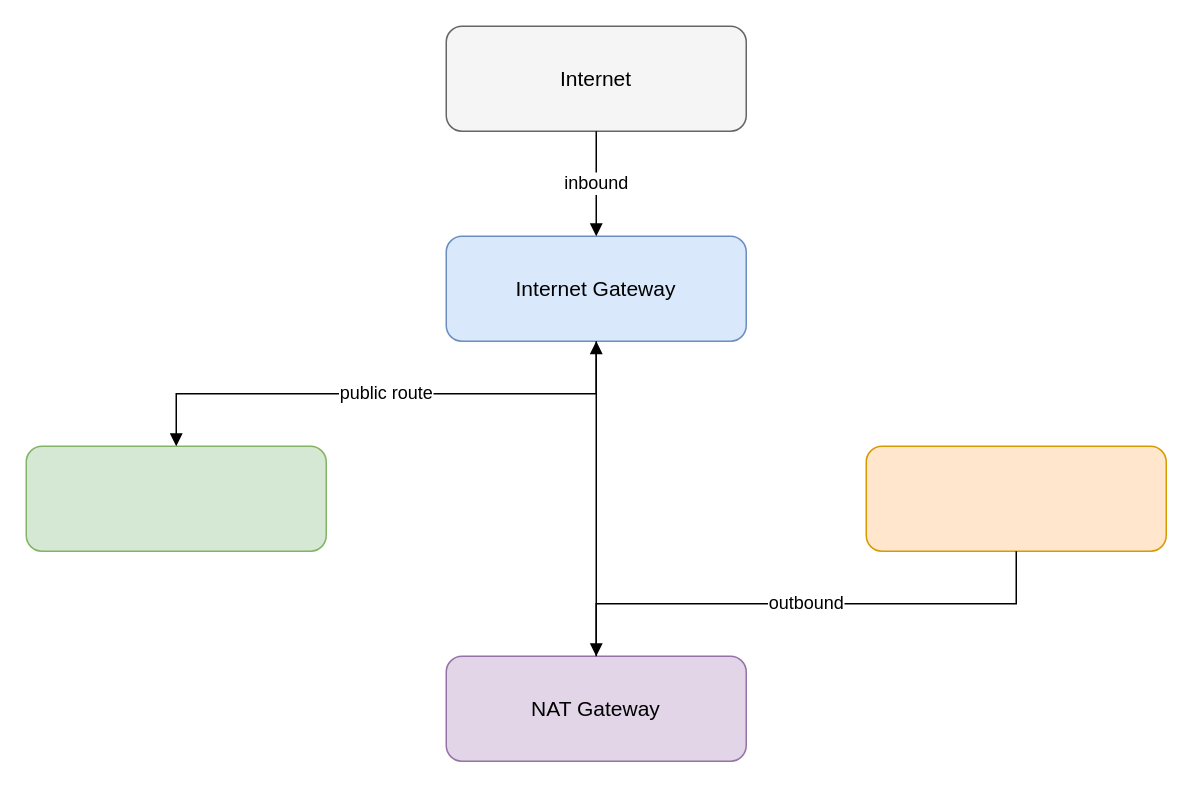
Image size: 1193x788. Some labels were removed from this diagram. Each missing label, with the centre of its shape:
"Private subnet 10.0.2.0/24 (app · RDS)" goes at [1015,498].
"Public subnet 10.0.1.0/24 (ALB · NAT GW)" goes at [175,498].
